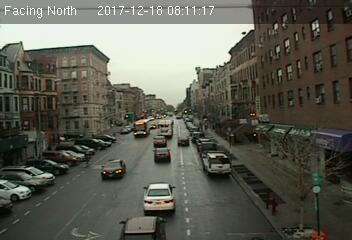car: (142, 181, 178, 214), (202, 151, 231, 175), (100, 159, 127, 181), (153, 148, 172, 162), (152, 136, 168, 149), (177, 135, 191, 148)
